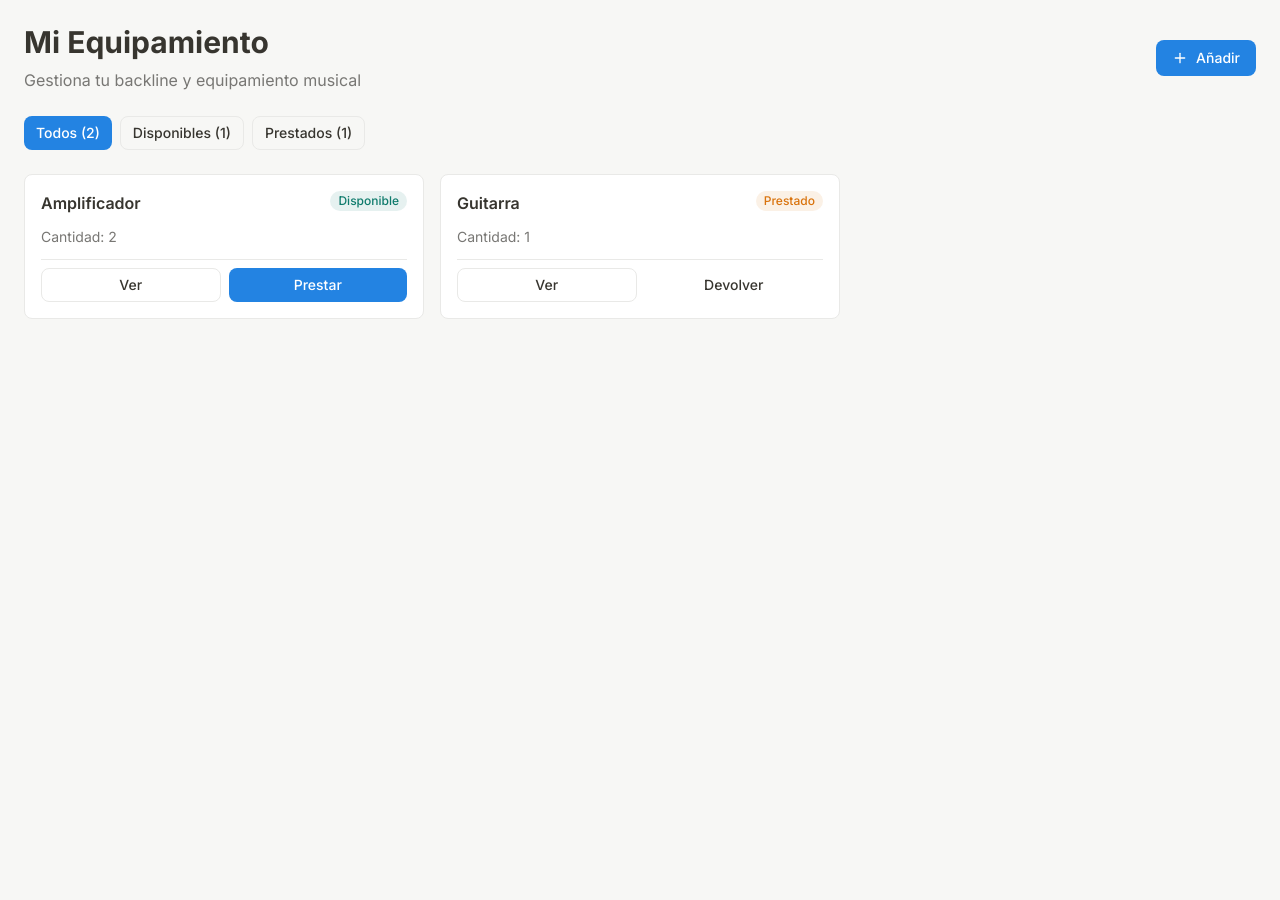
Test case: Items › abre el formulario para añadir un item
Check: the heading "Amplificador" is shown, box x1=41 y1=193 x2=141 y2=213
Step 1. Click the button "Añadir" → (1206, 58), box x1=1156 y1=40 x2=1256 y2=76
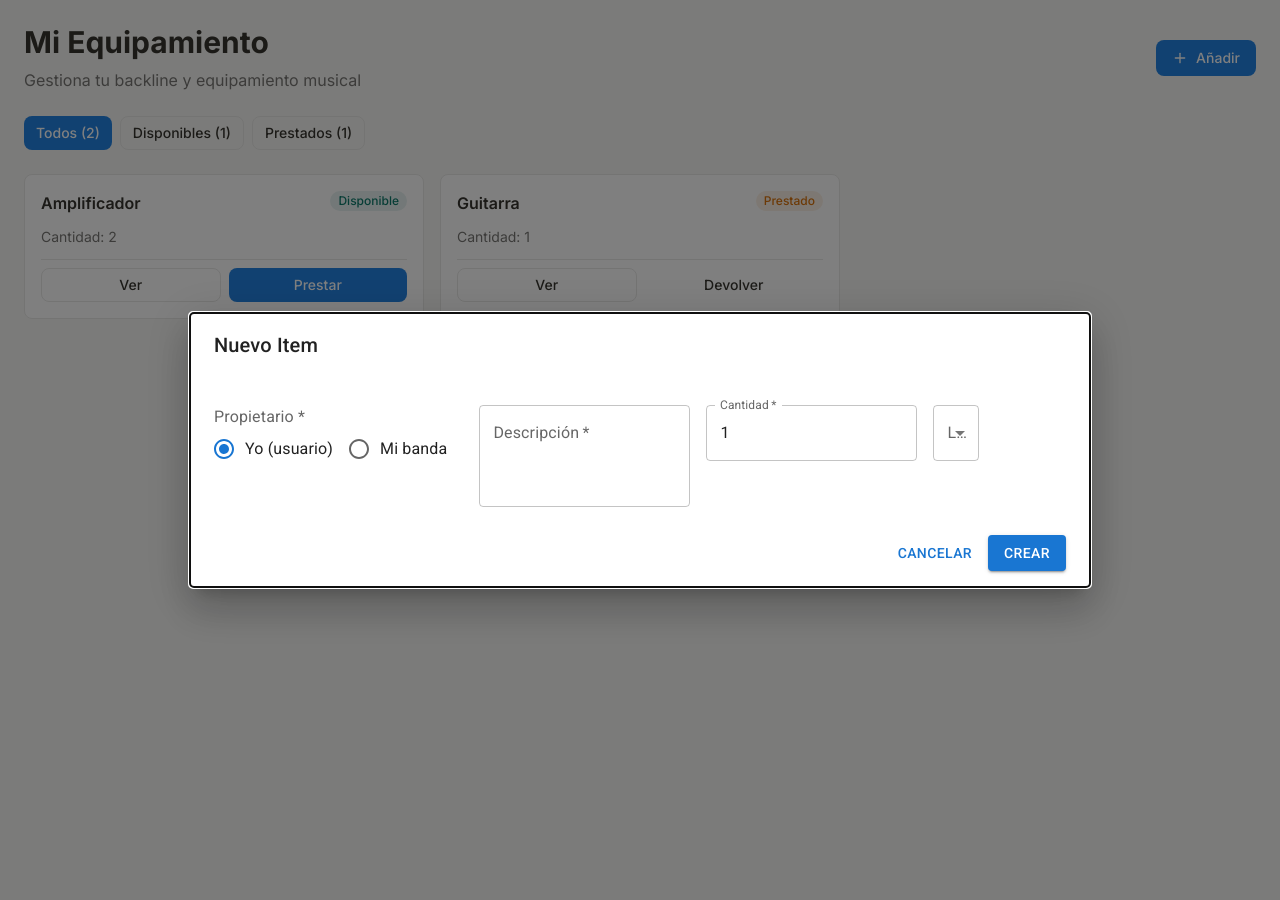
Check: the heading "Nuevo Item" is shown, box x1=214 y1=333 x2=318 y2=357
